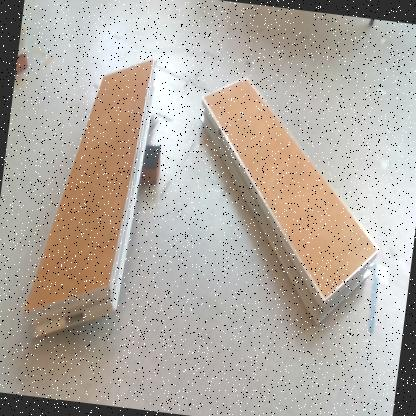Stairs: (202, 77, 382, 326), (25, 59, 159, 340), (18, 26, 26, 59)
